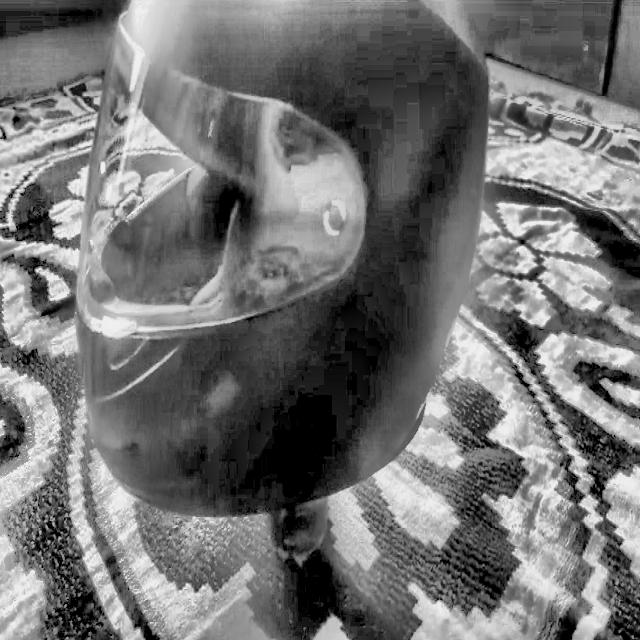Helmet: (72, 0, 500, 508)
